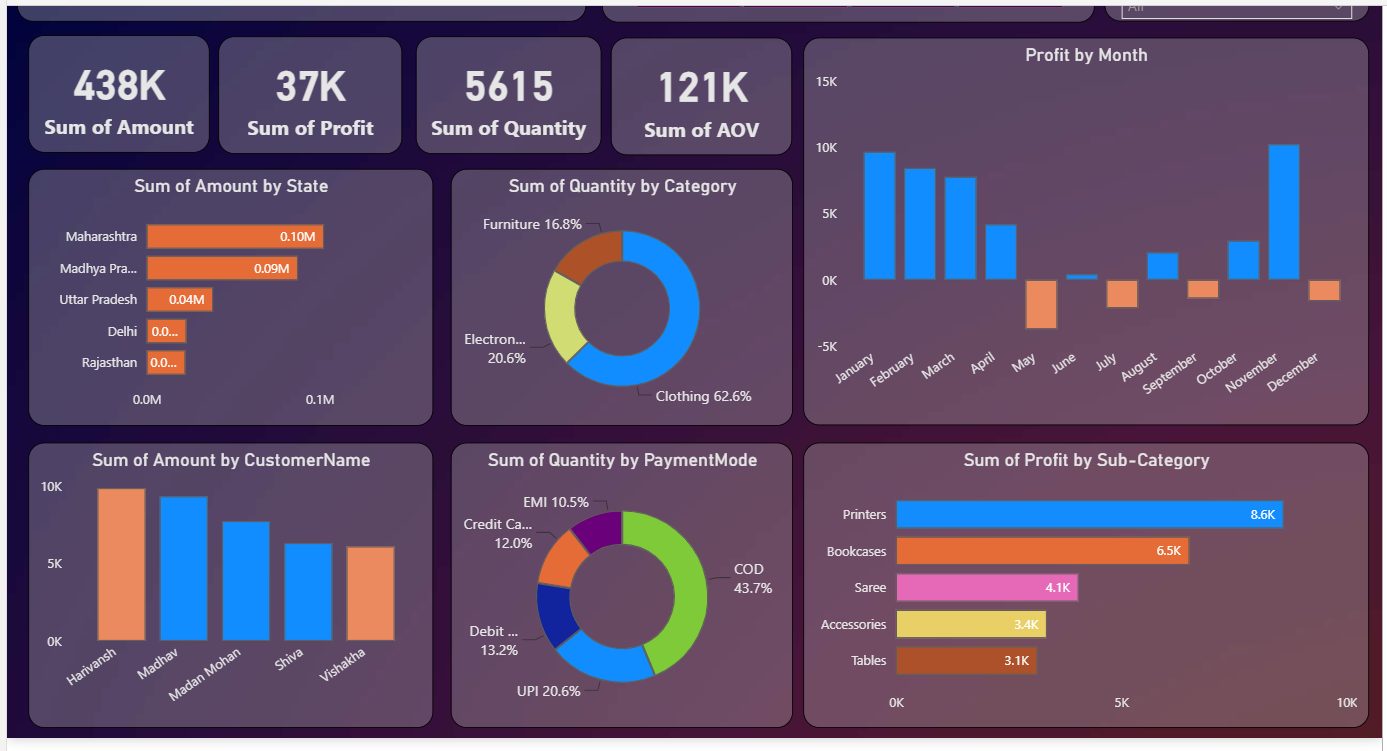

The dashboard page shown, as its layout file describes it:
{"tool":"powerbi","page":{"name":"Page 1","canvas":[1280,720],"ordinal":0},"visuals":[{"type":"textbox","box":[9.7,0,529.6,53.1],"z":0},{"type":"columnChart","title":"Profit by Month","fields":{"Y":["Sum(Details.Profit)"],"Category":["Orders.Order Date.Variation.Date Hierarchy.Month"]},"box":[740.8,67.6,526,360.7],"z":1000},{"type":"barChart","fields":{"Category":["Details.Sub-Category"],"Y":["Sum(Details.Profit)"]},"box":[740.8,444,526,265.4],"z":2000},{"type":"donutChart","fields":{"Category":["Details.Category"],"Y":["Sum(Details.Quantity)"]},"box":[412.6,189.4,318.5,238.9],"z":3000},{"type":"donutChart","fields":{"Y":["Sum(Details.Quantity)"],"Category":["Details.PaymentMode"]},"box":[412.6,444,318.5,265.4],"z":4000},{"type":"card","fields":{"Values":["Sum(Details.Amount)"]},"box":[19.3,65.1,168.9,109.8],"z":5000},{"type":"card","fields":{"Values":["Sum(Details.Profit)"]},"box":[196.6,66.4,171.3,109.8],"z":6000},{"type":"card","fields":{"Values":["Sum(Details.Quantity)"]},"box":[380,66.4,172.5,109.8],"z":7000},{"type":"card","fields":{"Values":["Sum(Details.AOV(Average Order Value))"]},"box":[562.2,67.6,168.9,109.8],"z":8000},{"type":"barChart","fields":{"Category":["Orders.State"],"Y":["Sum(Details.Amount)"]},"box":[19.3,189.4,376.4,238.9],"z":9000},{"type":"columnChart","fields":{"Category":["Orders.CustomerName"],"Y":["Sum(Details.Amount)"]},"box":[19.3,444,376.4,265.4],"z":10000},{"type":"slicer","fields":{"Values":["Orders.Order Date.Variation.Date Hierarchy.Quarter"]},"box":[553,0,458.3,53.5],"z":11000},{"type":"slicer","fields":{"Values":["Orders.State"]},"box":[1020.6,7.2,246.1,45.8],"z":12000}]}

Visuals, with their boxes in screenshot pixels (x1, y1, x2, y2):
textbox: [left=0, top=0, right=575, bottom=8]
"Profit by Month" columnChart: [left=798, top=24, right=1379, bottom=423]
barChart - Details.Sub-Category x Sum(Details.Profit): [left=798, top=441, right=1379, bottom=734]
donutChart - Details.Category x Sum(Details.Quantity): [left=435, top=159, right=787, bottom=423]
donutChart - Sum(Details.Quantity) x Details.PaymentMode: [left=435, top=441, right=787, bottom=734]
card - Sum(Details.Amount): [left=0, top=21, right=186, bottom=143]
card - Sum(Details.Profit): [left=196, top=23, right=385, bottom=144]
card - Sum(Details.Quantity): [left=399, top=23, right=589, bottom=144]
card - Sum(Details.AOV(Average Order Value)): [left=600, top=24, right=787, bottom=146]
barChart - Orders.State x Sum(Details.Amount): [left=0, top=159, right=416, bottom=423]
columnChart - Orders.CustomerName x Sum(Details.Amount): [left=0, top=441, right=416, bottom=734]
slicer - Orders.Order Date.Variation.Date Hierarchy.Quarter: [left=590, top=0, right=1097, bottom=9]
slicer - Orders.State: [left=1107, top=0, right=1379, bottom=8]
